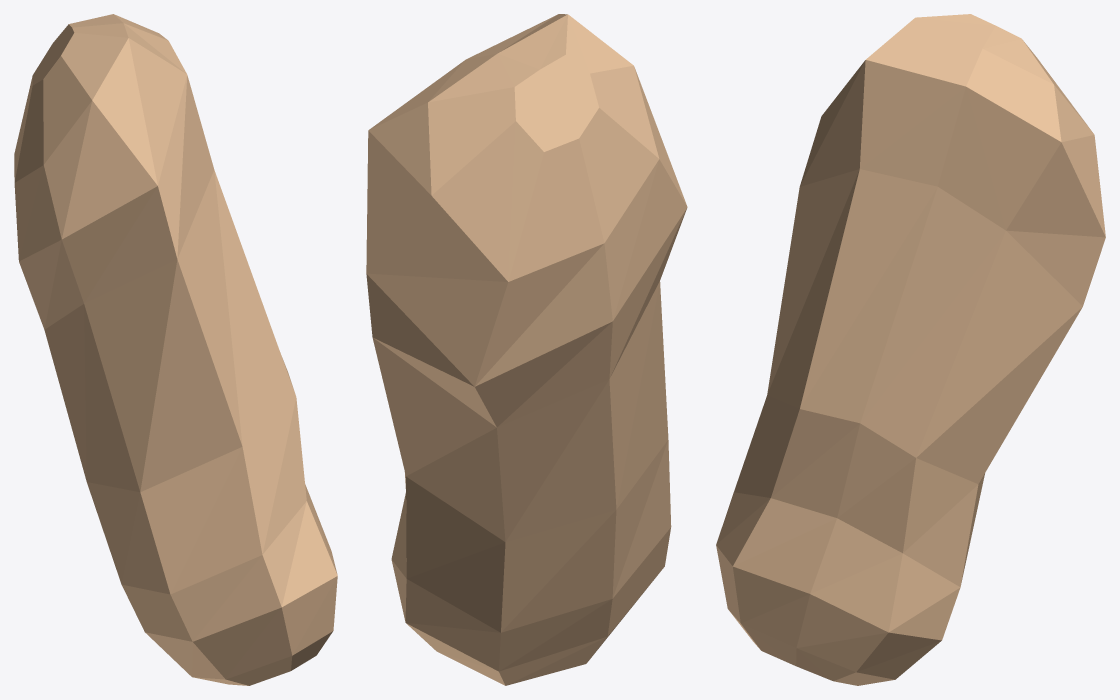
The model's file is LThumb1_mesh.dae.
3 views of the same model, side by side, from view 1: azimuth 30°, elevation 25°; view 2: azimuth 150°, elevation 25°; view 3: azimuth 270°, elevation 25° (orthographic). The views are drawn at different scales.
Parts seen in each view (by area): view 1: LThumb1; view 2: LThumb1; view 3: LThumb1.
Boxes of the visible parts, left/top/right/bottom form: LThumb1: left=14, top=14, right=337, bottom=685; LThumb1: left=366, top=14, right=687, bottom=685; LThumb1: left=716, top=14, right=1105, bottom=685.
Size of the model in its own units: 0.0223 by 0.0519 by 0.0295.
